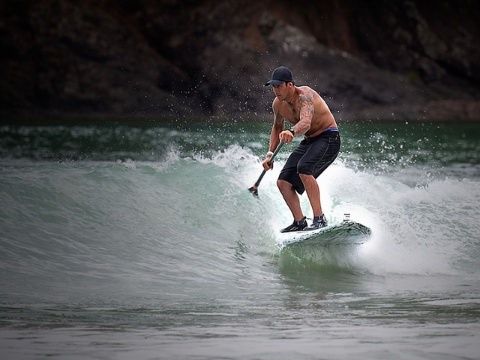hand: (277, 128, 295, 144), (261, 158, 276, 171)
